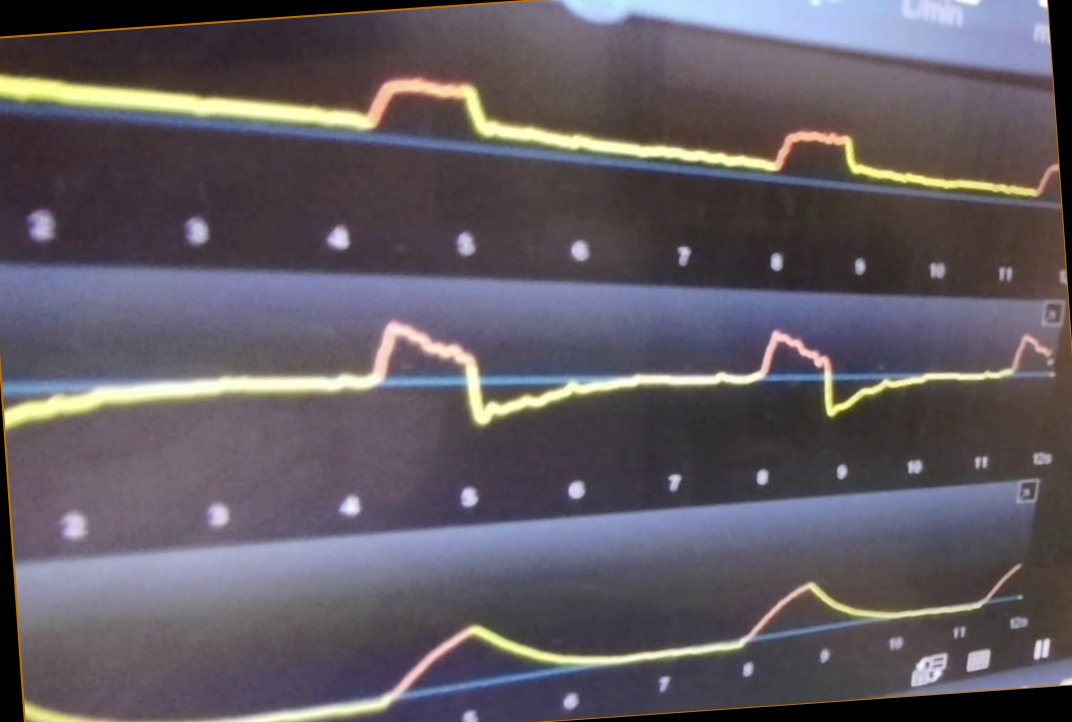Accumulation Flow: (4, 319, 1059, 450)
Volume: (24, 561, 1021, 719)
